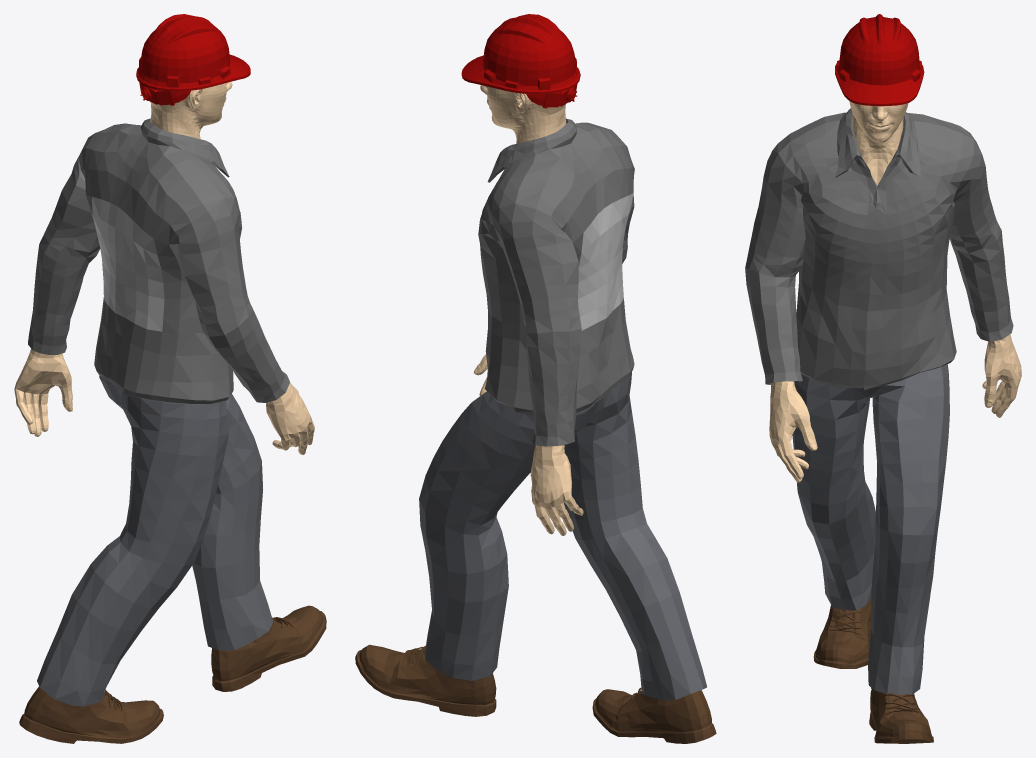
Rendered from worker.obj.
3 renders of one model, left to right at view 1: azimuth 30°, elevation 25°; view 2: azimuth 150°, elevation 25°; view 3: azimuth 270°, elevation 25°, orthographic. The views are drawn at different scales.
Visible parts, largest first — view 1: 人.4; view 2: 人.4; view 3: 人.4.
Part boxes in pixels (x1,y1,x2,y2): 人.4: [14, 14, 326, 743]; 人.4: [355, 14, 716, 743]; 人.4: [745, 14, 1021, 743].
Bounding box in the file's own units: 47.39 × 95.26 × 34.9.
